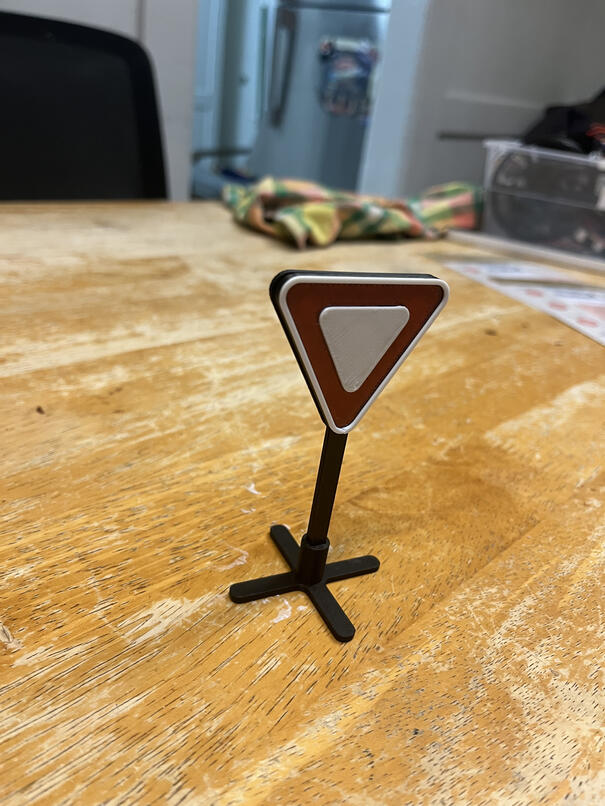sign_yield: (265, 268, 454, 439)
